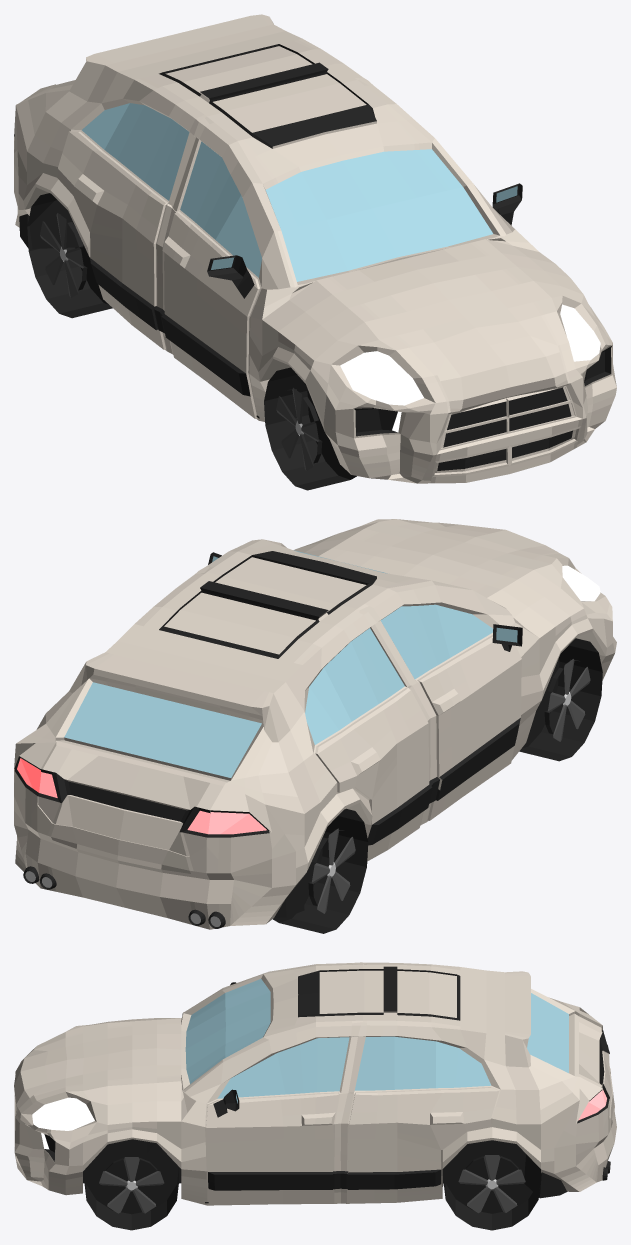
Rendered from free__blender_-_20xx_porsche_macan.glb.
3 renders of one model, top to bottom at view 1: azimuth 30°, elevation 25°; view 2: azimuth 150°, elevation 25°; view 3: azimuth 270°, elevation 25°, orthographic. The views are drawn at different scales.
Parts seen in each view (by area): view 1: porschemacan_0; view 2: porschemacan_0; view 3: porschemacan_0.
Part boxes in pixels (x1,y1,x2,y2): porschemacan_0: (14,14,616,490); porschemacan_0: (14,519,616,933); porschemacan_0: (14,962,616,1230).
Bounding box in the file's own units: 2.29 × 1.73 × 4.99.
